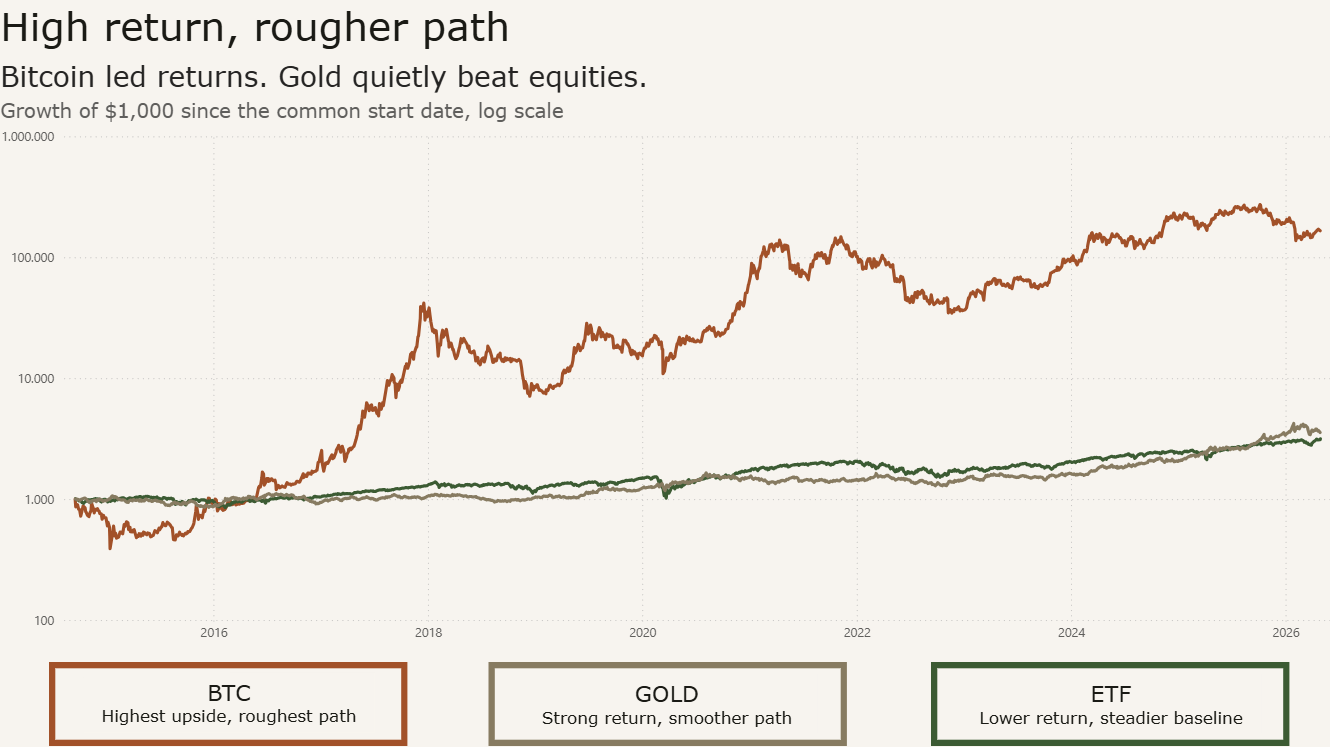

The dashboard page shown, as its layout file describes it:
{"tool":"powerbi","page":{"name":"Return path","canvas":[1280,720],"ordinal":1},"visuals":[{"type":"lineChart","title":"Bitcoin led returns. Gold quietly beat equities.","fields":{"Y":["Sum(executive_normalized_1000.indexed_value)"],"Series":["executive_normalized_1000.asset"],"Category":["executive_normalized_1000.date"]},"box":[0,60,1280,564.3],"z":0},{"type":"shape","box":[51.4,634.3,341.4,80],"z":1000},{"type":"textbox","box":[84.3,644.3,277.1,57.1],"z":2000},{"type":"shape","box":[470,634.3,341.4,80],"z":3000},{"type":"textbox","box":[497.1,645.7,285.7,55.7],"z":4000},{"type":"shape","box":[891,634.3,341.4,80],"z":5000},{"type":"textbox","box":[919.5,645.7,285.7,55.7],"z":6000},{"type":"textbox","box":[0,0,508.6,60],"z":7000}]}

Visuals, with their boxes in screenshot pixels (x1, y1, x2, y2), scaled from the page's 1280x720 canvas onto the 1330x747 screenshot:
"Bitcoin led returns. Gold quietly beat equities." lineChart: bbox=[0, 62, 1329, 648]
shape: bbox=[53, 658, 408, 741]
textbox: bbox=[88, 668, 376, 728]
shape: bbox=[488, 658, 843, 741]
textbox: bbox=[517, 670, 813, 728]
shape: bbox=[926, 658, 1281, 741]
textbox: bbox=[955, 670, 1252, 728]
textbox: bbox=[0, 0, 528, 62]
